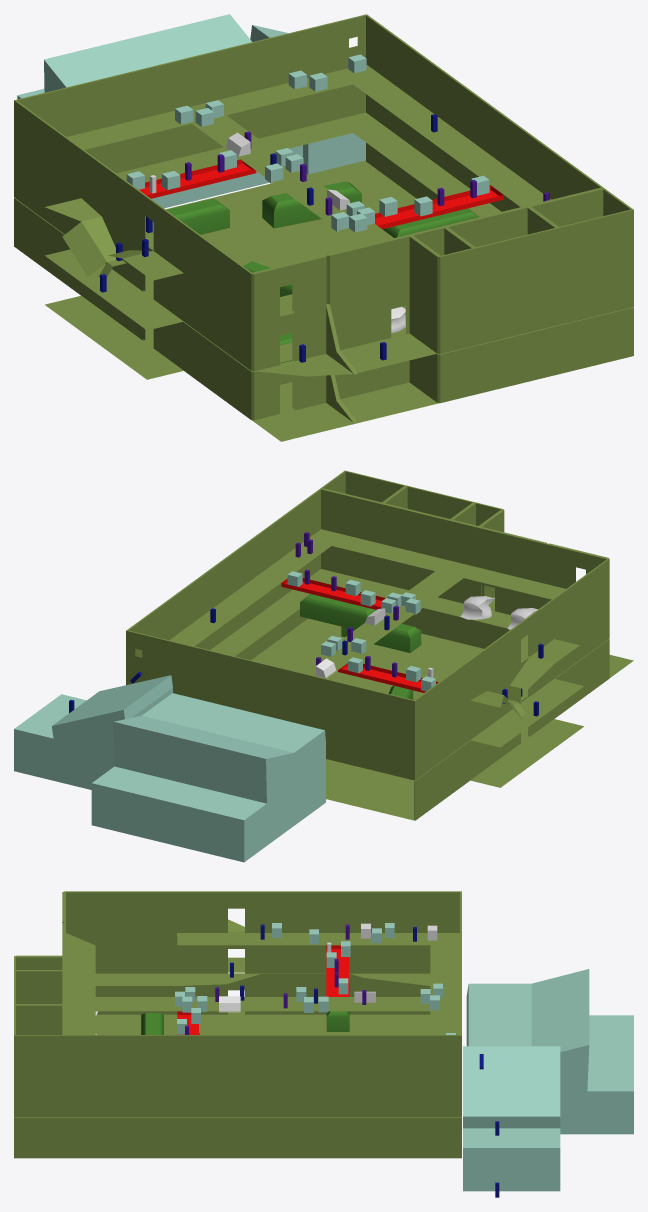
File: sceneScaleV2.FBX
3 views of the same model, one above another, from view 1: azimuth 30°, elevation 25°; view 2: azimuth 150°, elevation 25°; view 3: azimuth 270°, elevation 25° (orthographic). The views are drawn at different scales.
Parts seen in each view (by area): view 1: Plane001, floor1, Box053, Object001, Box052, Box063, Box058, Box059; view 2: Plane001, Box053, floor1, Box052, Object001, Box059, Box060, Box057; view 3: Plane001, Box053, Box052, floor1, Object001, Box058, Box061.
Part boxes in pixels (box(x1,y1,x2,y2)): Plane001: box(14, 14, 633, 422); floor1: box(45, 160, 439, 441); Box053: box(17, 14, 302, 208); Object001: box(139, 159, 503, 229); Box052: box(250, 25, 365, 174); Box063: box(262, 181, 361, 228); Box058: box(167, 198, 229, 234); Box059: box(383, 208, 479, 237); Plane001: box(126, 470, 609, 820); Box053: box(91, 693, 325, 862); floor1: box(251, 618, 633, 820); Box052: box(14, 675, 172, 789); Object001: box(281, 578, 438, 692); Box059: box(300, 594, 375, 629); Box060: box(341, 623, 421, 652); Box057: box(460, 596, 494, 619); Plane001: box(14, 891, 461, 1158); Box053: box(466, 969, 633, 1134); Box052: box(463, 1046, 560, 1191); floor1: box(95, 1011, 430, 1034); Object001: box(177, 945, 348, 1034); Box058: box(326, 982, 349, 1031); Box061: box(141, 1013, 163, 1034).
Bounding box in the file's own units: 2265 × 659 × 2995.
